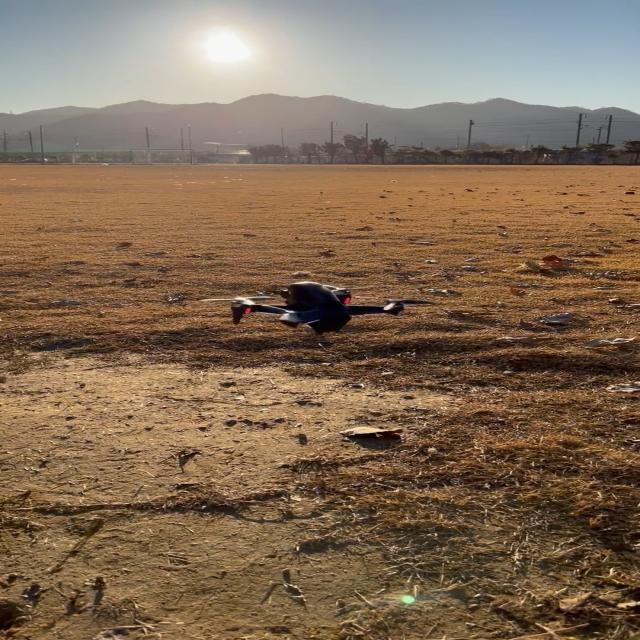drone: (197, 280, 436, 347)
